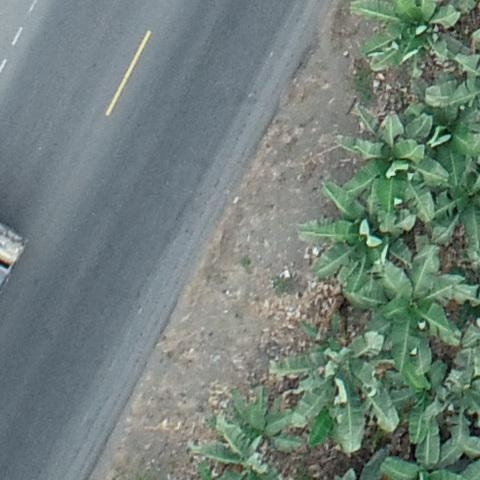Banana-plant: (341, 107, 441, 222), (300, 184, 407, 289), (360, 259, 459, 369), (290, 345, 389, 448), (351, 0, 480, 68), (429, 122, 480, 257), (397, 353, 480, 424), (380, 425, 480, 480)
